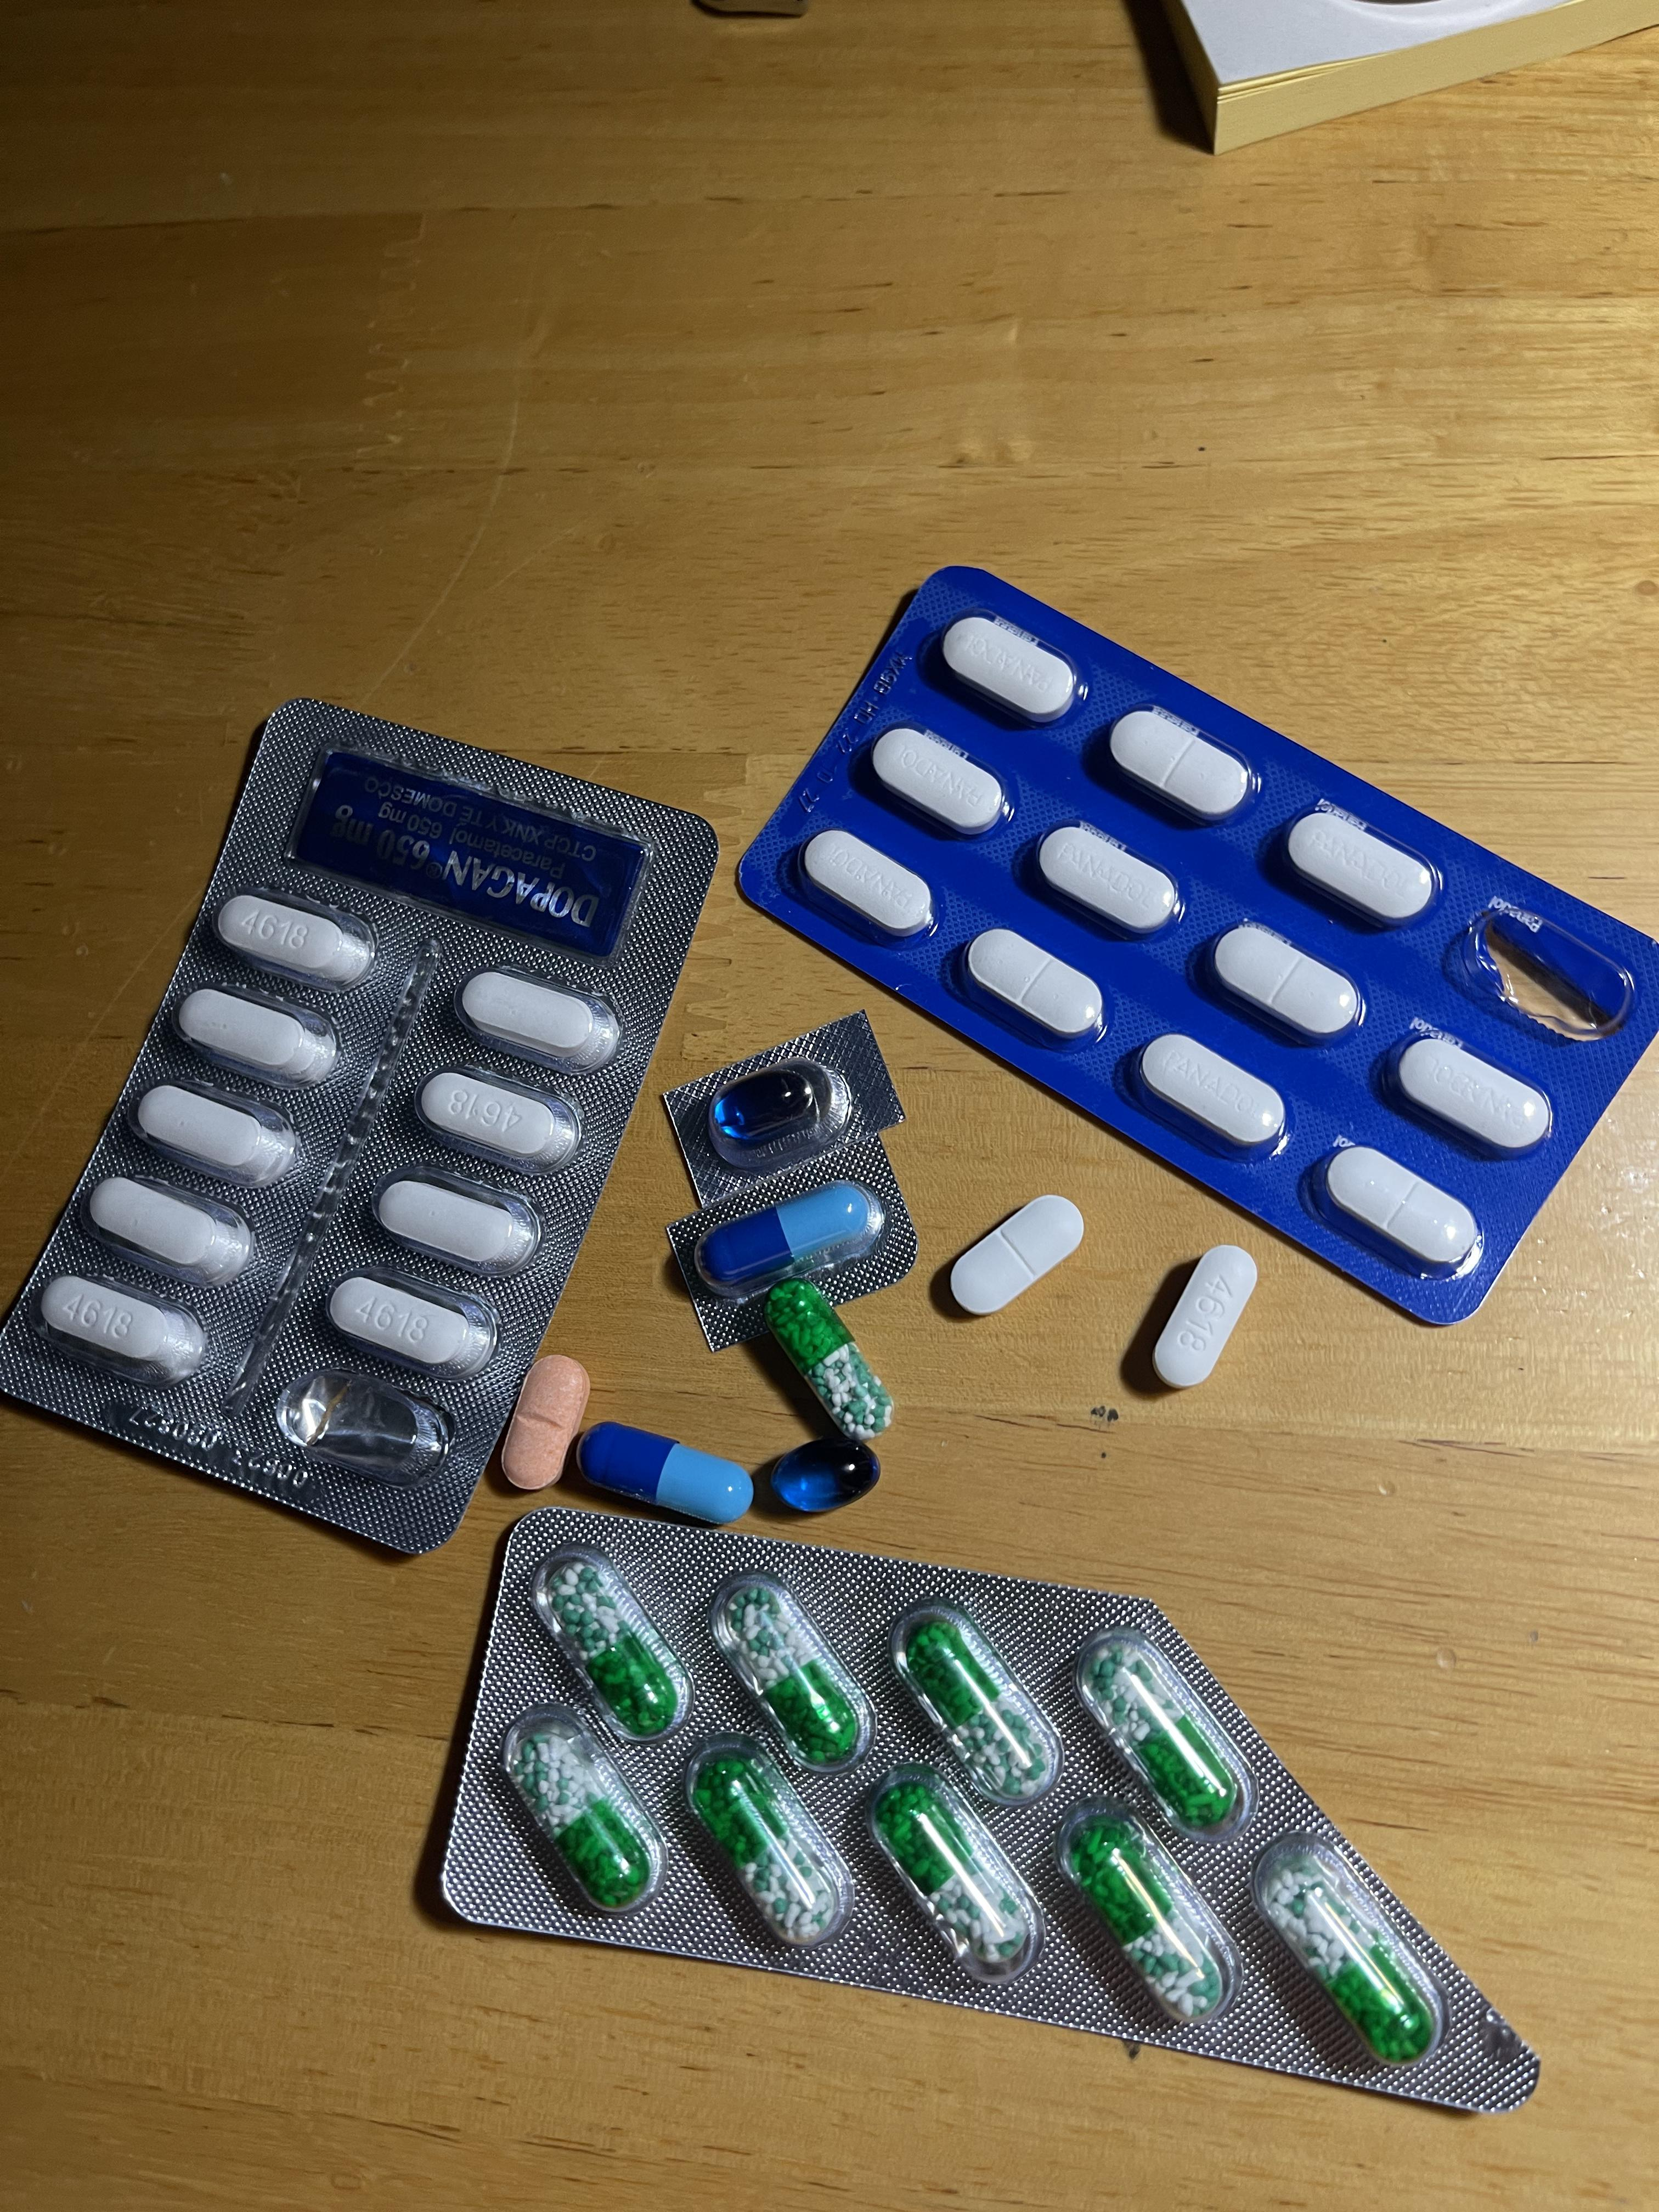Lincomyxin_500mg: (769, 1435, 878, 1514), (712, 1067, 821, 1142)
Loratadine_10mg: (498, 1352, 590, 1488)
Paracetamol_350mg: (1385, 1034, 1553, 1158), (1281, 805, 1443, 928), (1202, 921, 1360, 1043), (1324, 1147, 1480, 1268), (1133, 1035, 1284, 1158), (1106, 706, 1255, 825), (1031, 822, 1177, 938), (964, 928, 1106, 1046), (945, 1194, 1081, 1316), (940, 614, 1077, 727), (871, 726, 1007, 839), (800, 830, 930, 941)
Paracetamol_500mg: (87, 1174, 255, 1286), (37, 1274, 205, 1387), (369, 1167, 542, 1269), (133, 1084, 298, 1188), (328, 1275, 490, 1378), (458, 968, 619, 1070), (176, 989, 342, 1088), (421, 1069, 583, 1167), (1153, 1245, 1262, 1390), (215, 892, 380, 988)
Paracetamol_650mg: (1057, 1812, 1222, 2024), (1263, 1855, 1431, 2059), (869, 1776, 1030, 1978), (904, 1620, 1053, 1798), (1091, 1645, 1235, 1826), (699, 1755, 839, 1934), (514, 1730, 652, 1908), (549, 1562, 681, 1732), (727, 1589, 859, 1759), (761, 1277, 891, 1443)
pill: (694, 1183, 875, 1299), (577, 1421, 752, 1525)
